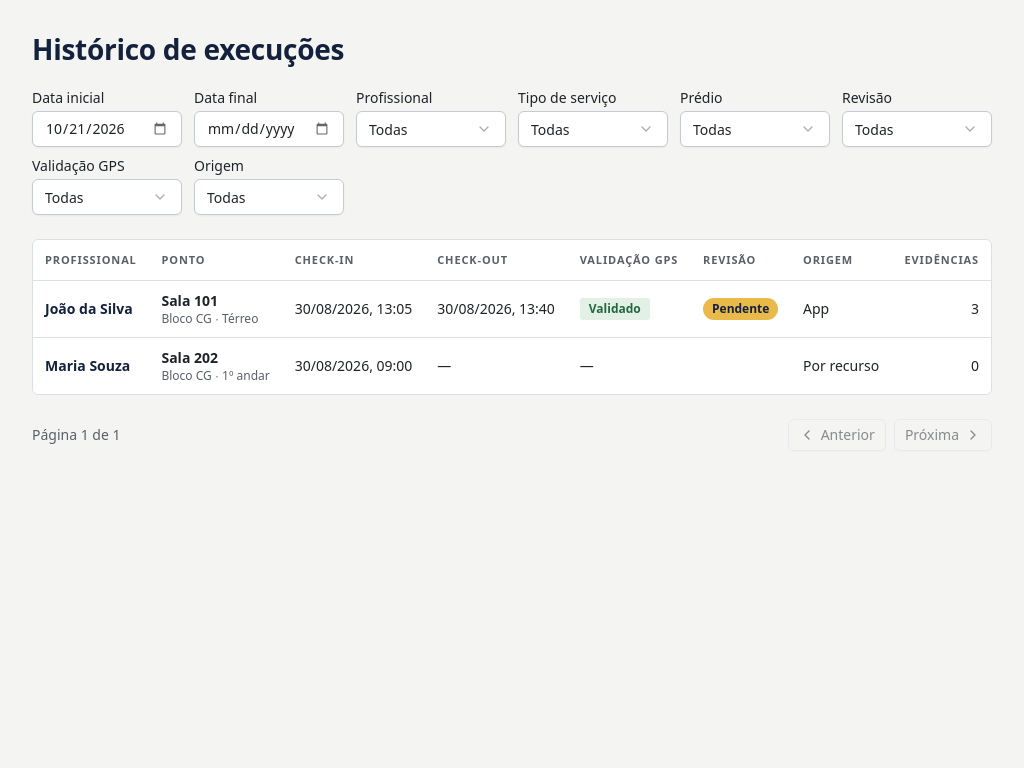
ExecutionHistoryPage › opens the detail drawer on a row click and loads the execution detail
The width and height of the screenshot is (1024, 768).
Click the cell "João da Silva": (91, 308) top-left (33, 280), bottom-right (150, 337)
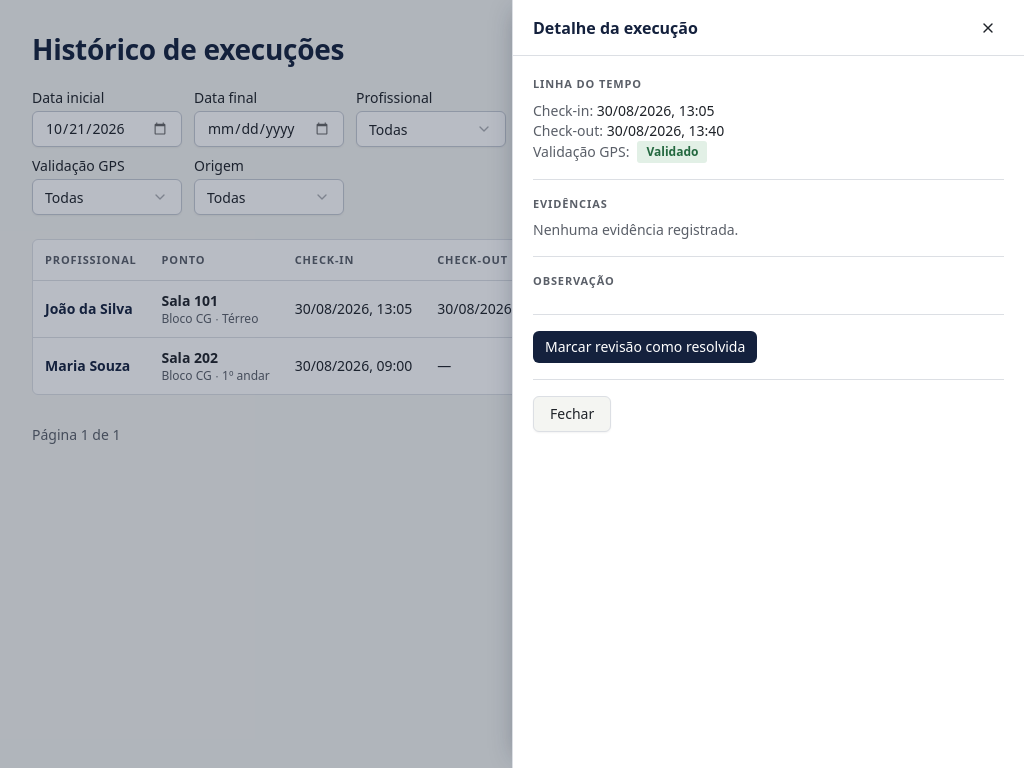
Now the heading "Linha do tempo" is shown, box top-left (533, 76), bottom-right (642, 91)
